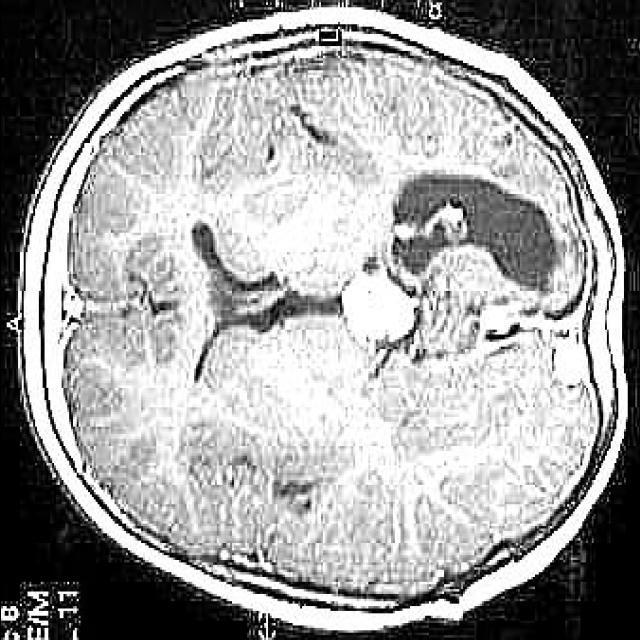tumor: (316, 179, 553, 359)
